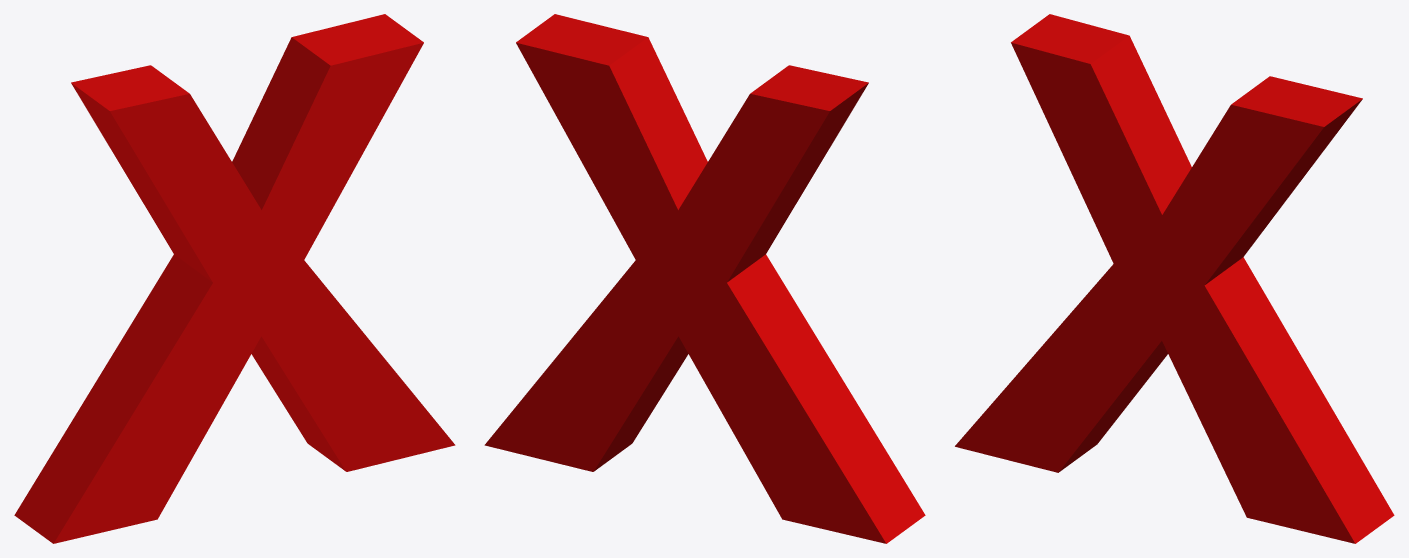
File: xObject.obj
The picture shows the model from 3 angles, left to right: view 1: azimuth 30°, elevation 25°; view 2: azimuth 150°, elevation 25°; view 3: azimuth 330°, elevation 25°; orthographic projection.
Parts seen in each view (by area): view 1: New Game Object_1, New Game Object_0; view 2: New Game Object_1, New Game Object_0; view 3: New Game Object_1, New Game Object_0.
Boxes of the visible parts, left/top/right/bottom form: New Game Object_1: left=53, top=42, right=455, bottom=543; New Game Object_0: left=14, top=14, right=423, bottom=543; New Game Object_1: left=484, top=42, right=886, bottom=543; New Game Object_0: left=516, top=14, right=925, bottom=543; New Game Object_1: left=955, top=42, right=1355, bottom=543; New Game Object_0: left=1011, top=14, right=1394, bottom=543.
Bounding box in the file's own units: 0.8383 × 0.8365 × 0.1411.
